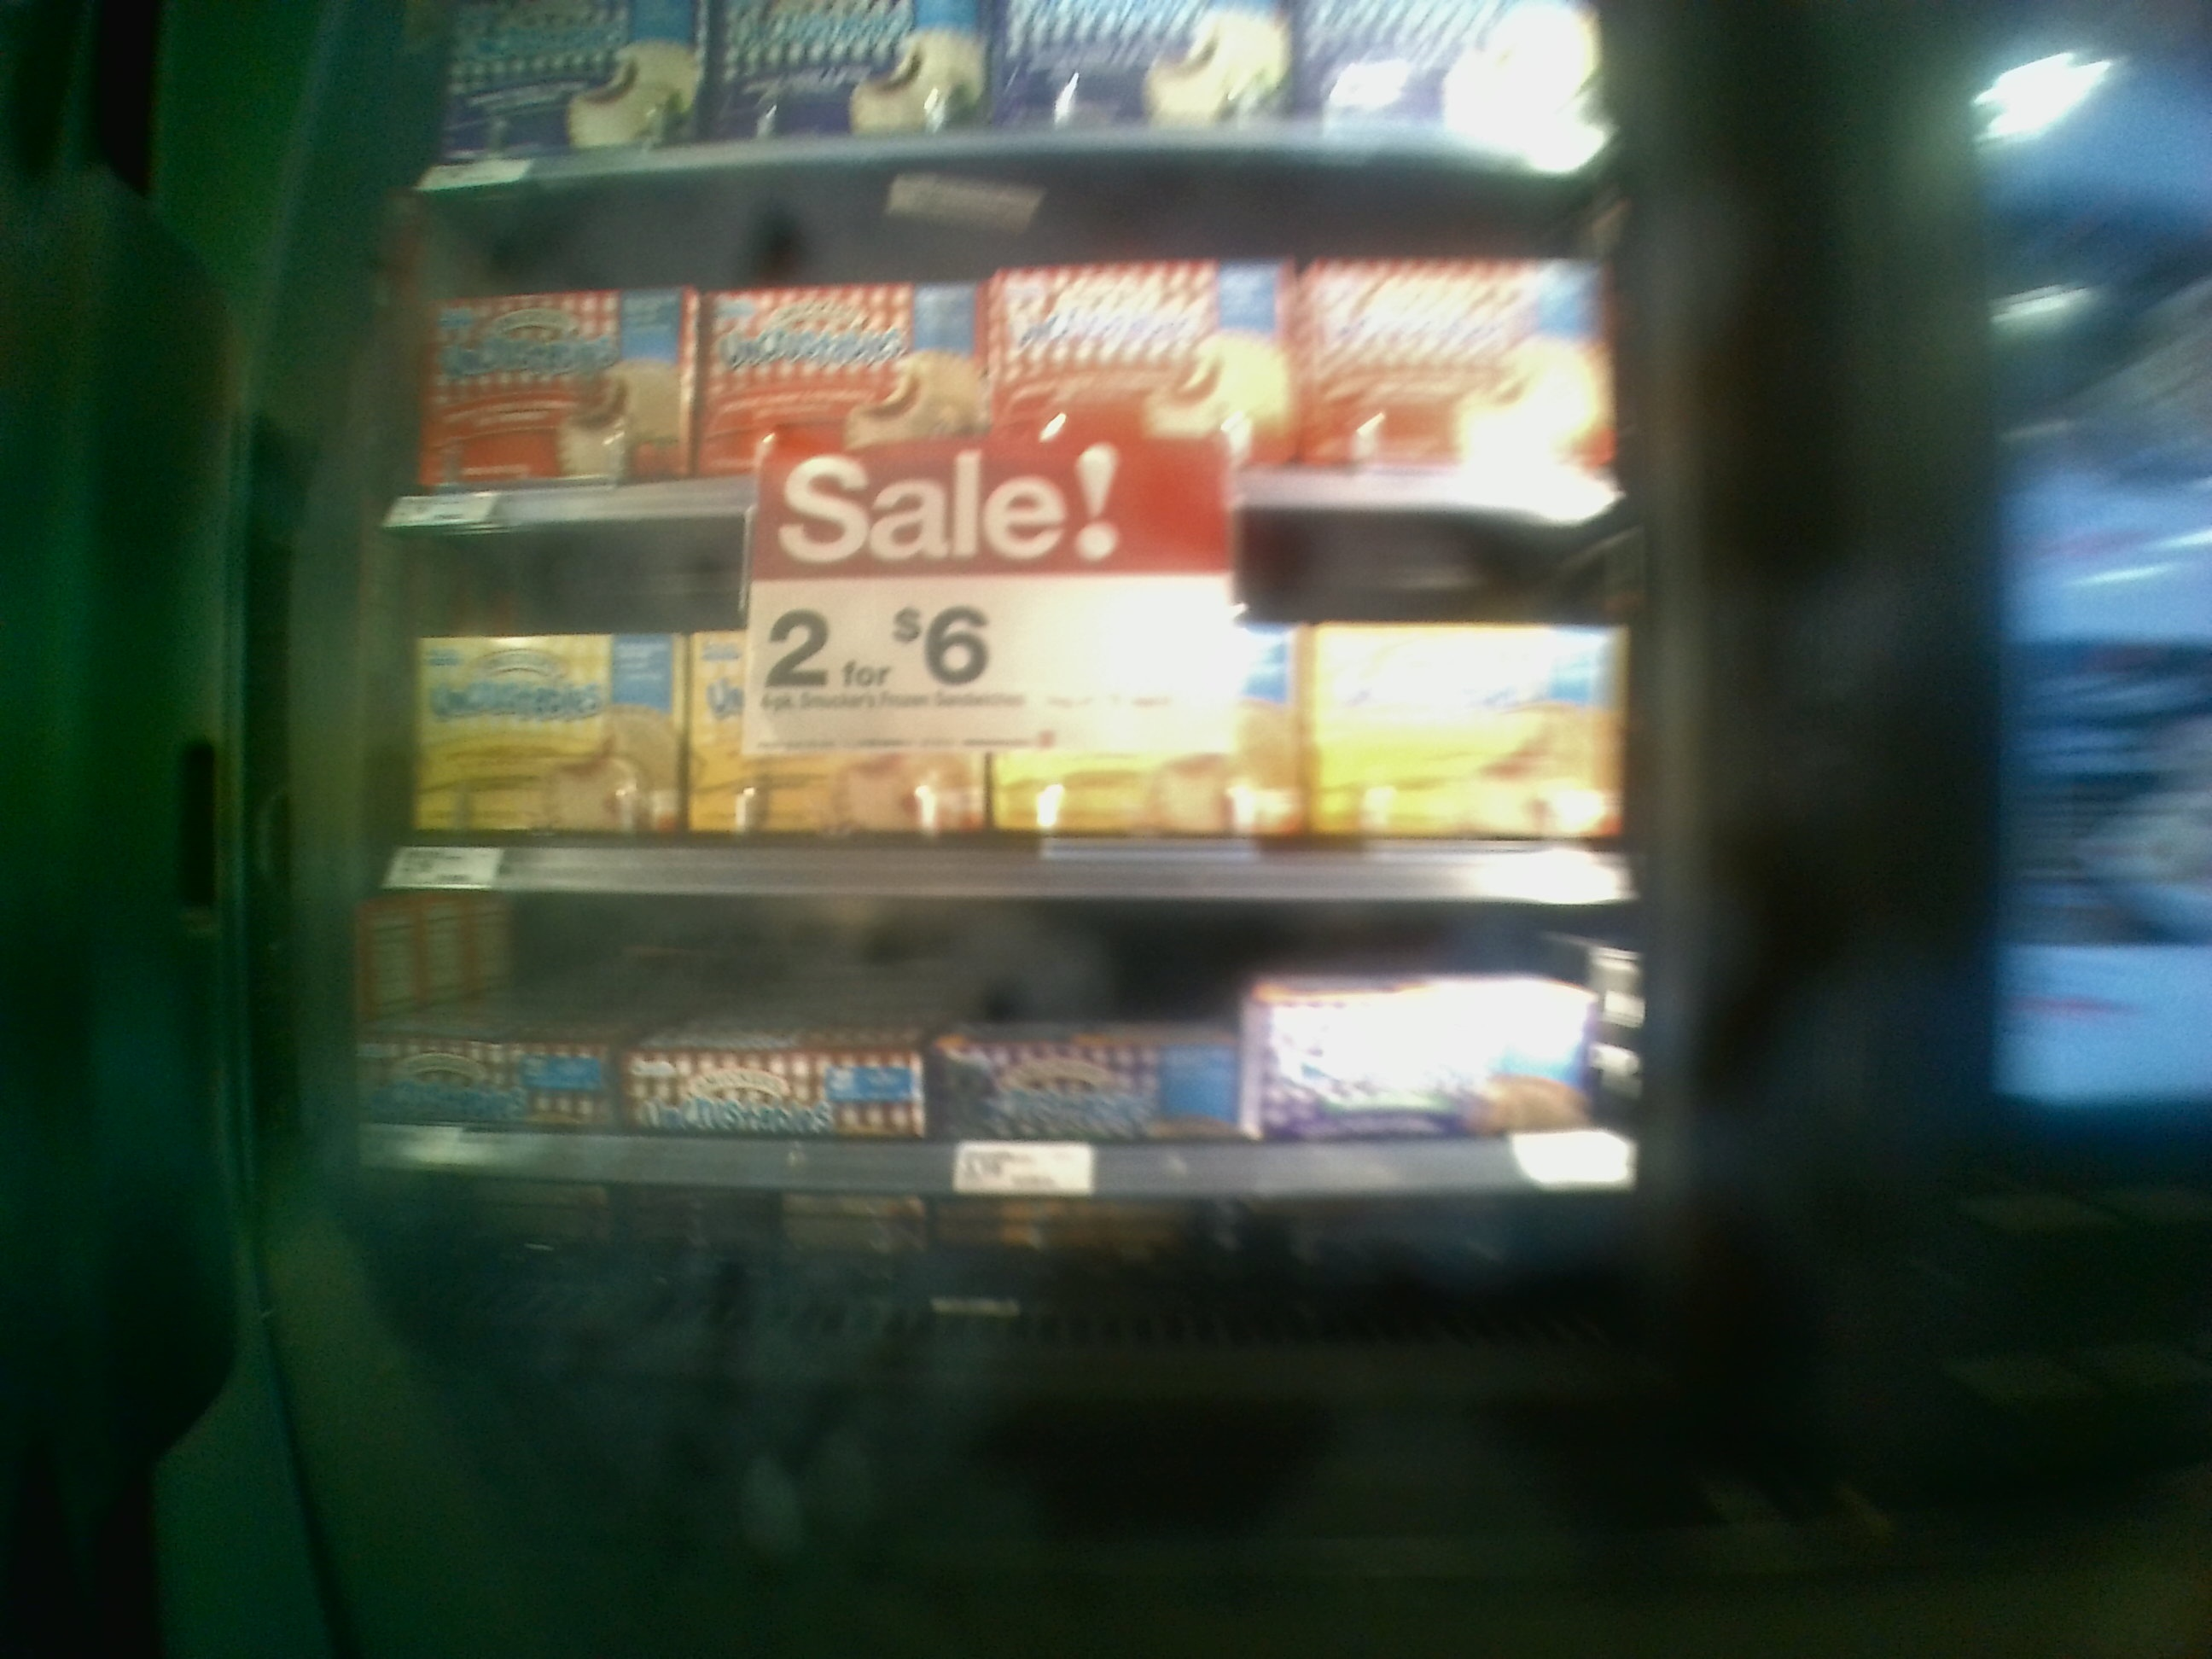shelf: (345, 887, 1649, 1375), (369, 547, 1635, 913), (383, 181, 1620, 551)
